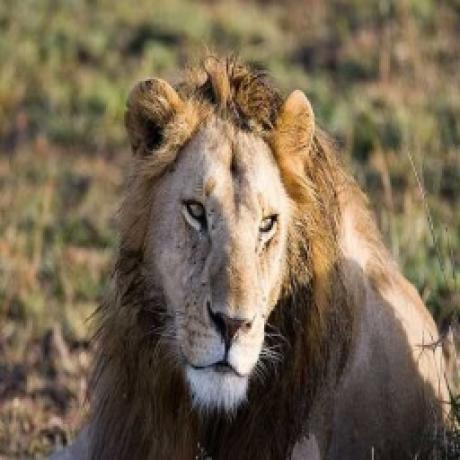Lion: (71, 55, 453, 460)
